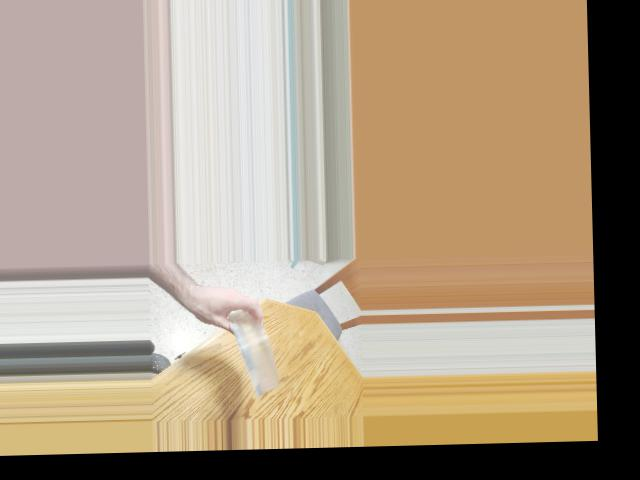cheese: (237, 300, 274, 398)
